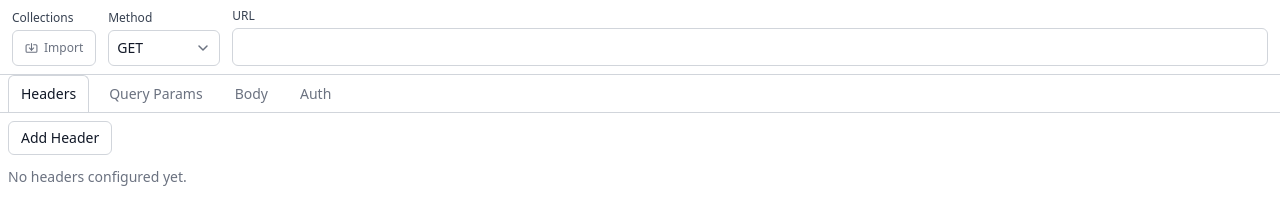
Test: RequestNodeEditor › renders KeyValueRows for query params when tab switched
Click the button with test id "tab-params": coordinates (156, 94) [97,75,215,112]
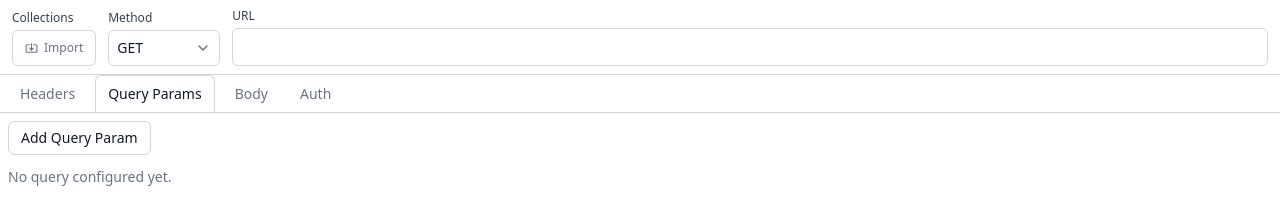
Check: the button "Add Query Param" is shown, box [8,121,151,155]
